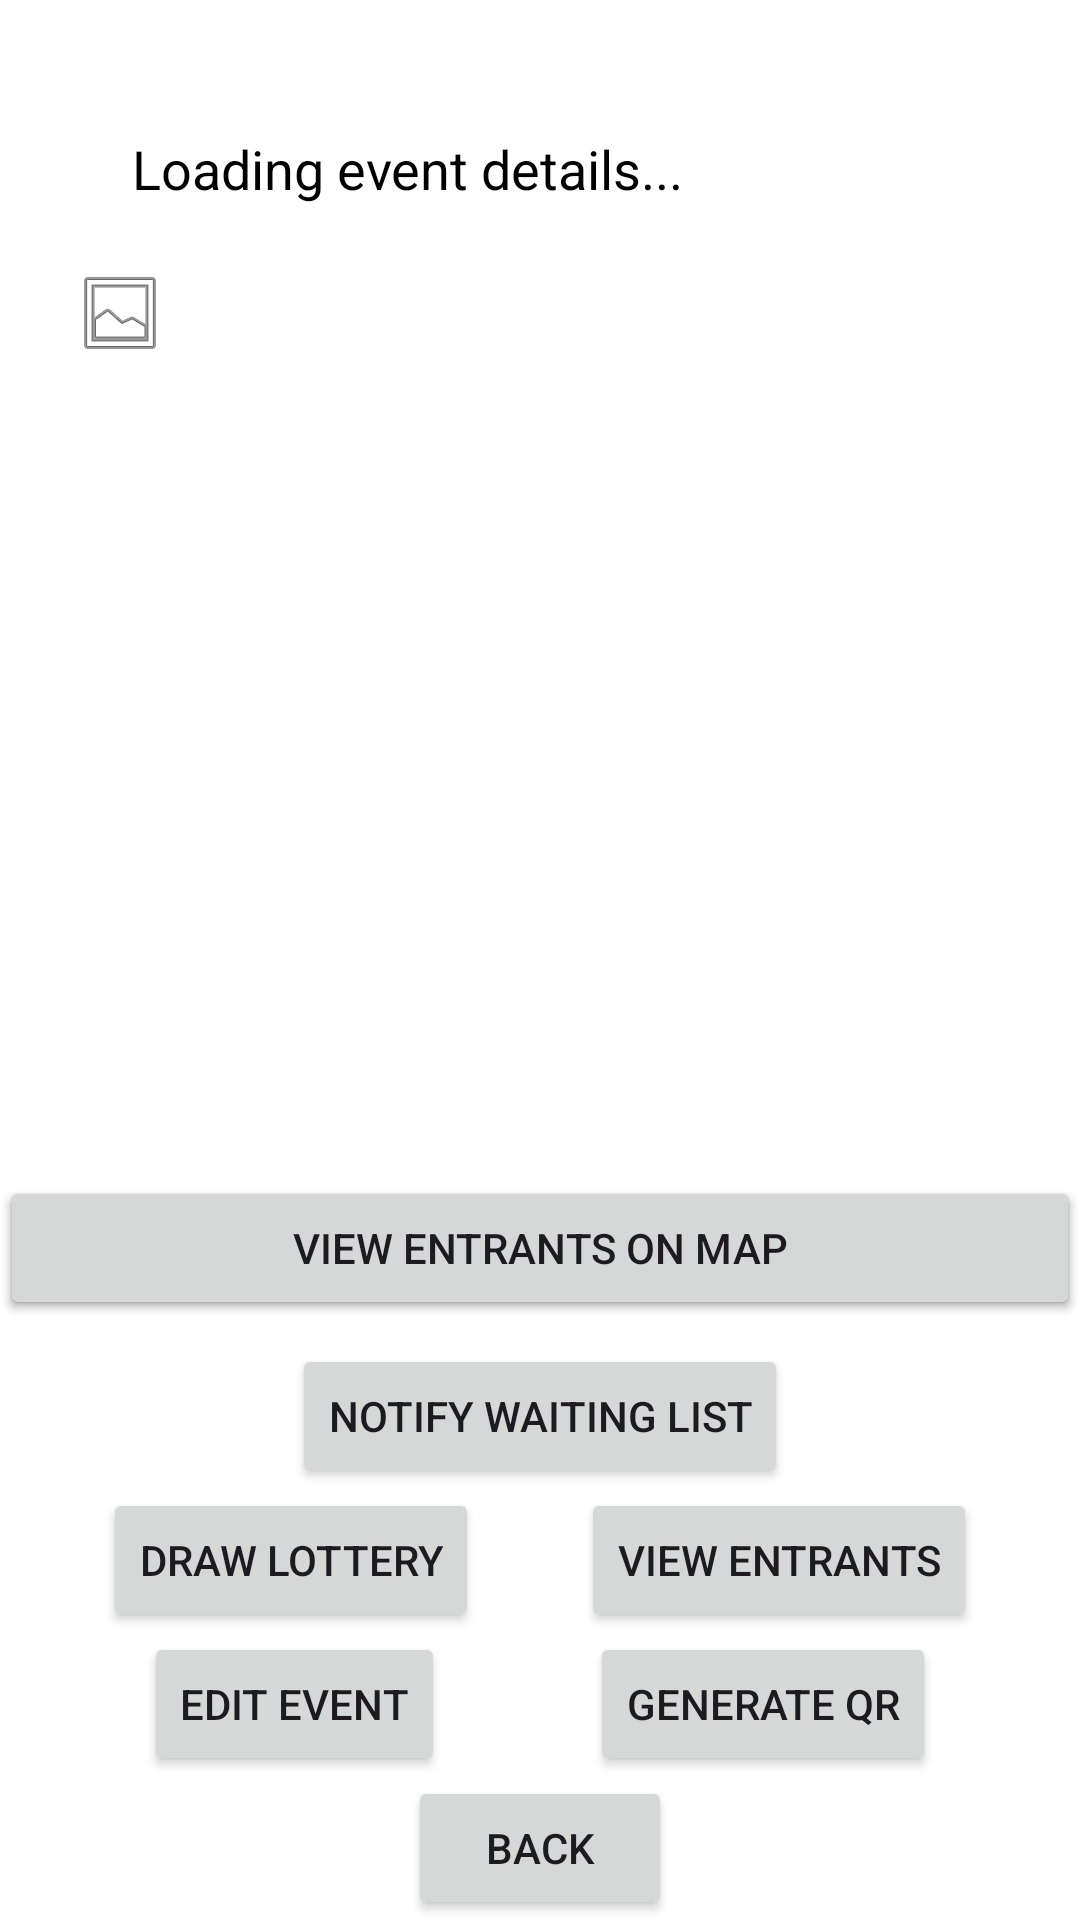

Where to tap for icons on this 1080x1920 app screen, as [x,y]:
gallery: [120,313]
